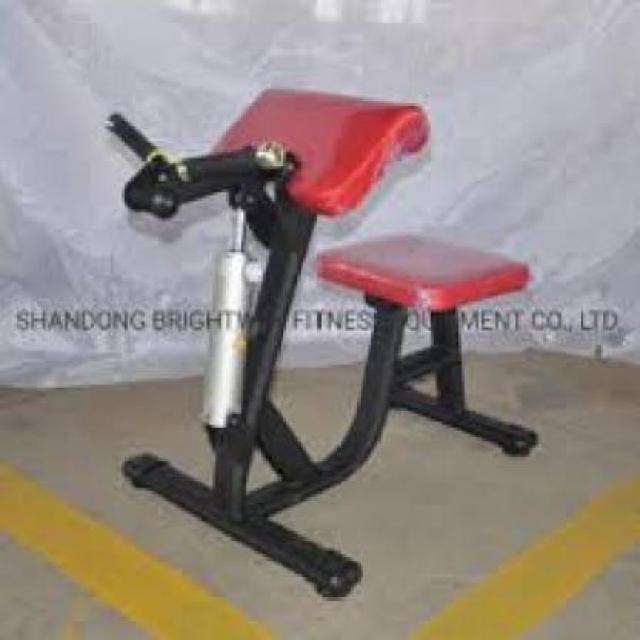arm curl machine: (106, 85, 543, 603)
